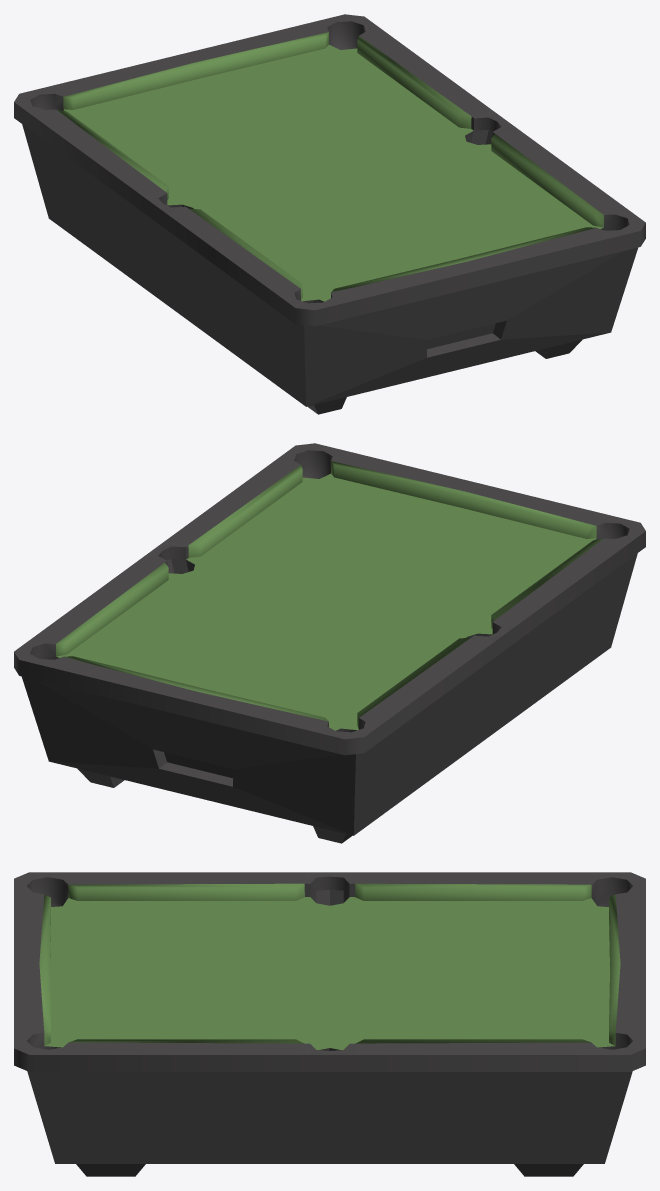
The model's file is MP_PoolTable.fbx.
The picture shows the model from 3 angles, top to bottom: view 1: azimuth 30°, elevation 25°; view 2: azimuth 150°, elevation 25°; view 3: azimuth 270°, elevation 25°; orthographic projection. The views are drawn at different scales.
Parts seen in each view (by area): view 1: Pool_Table; view 2: Pool_Table; view 3: Pool_Table.
Part boxes in pixels (<box>): Pool_Table: <box>14,14,645,414</box>; Pool_Table: <box>14,443,645,843</box>; Pool_Table: <box>14,872,645,1176</box>.
Bounding box in the file's own units: 673 × 254 × 984.
